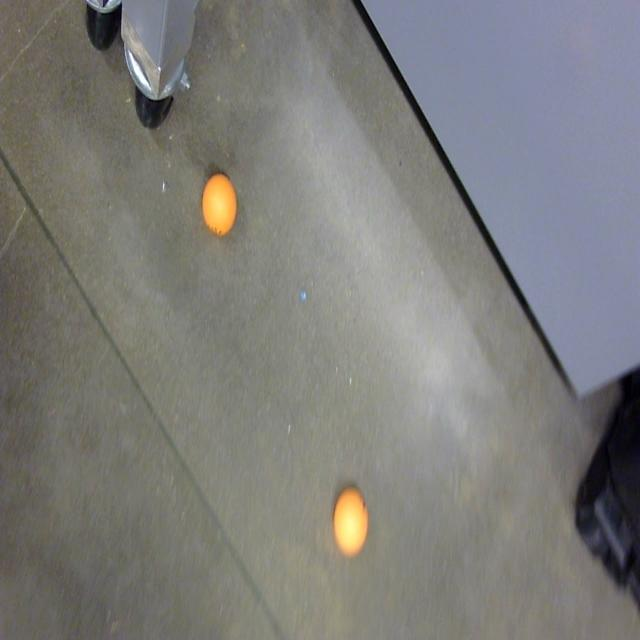ball: (332, 483, 371, 561), (201, 168, 240, 239)
